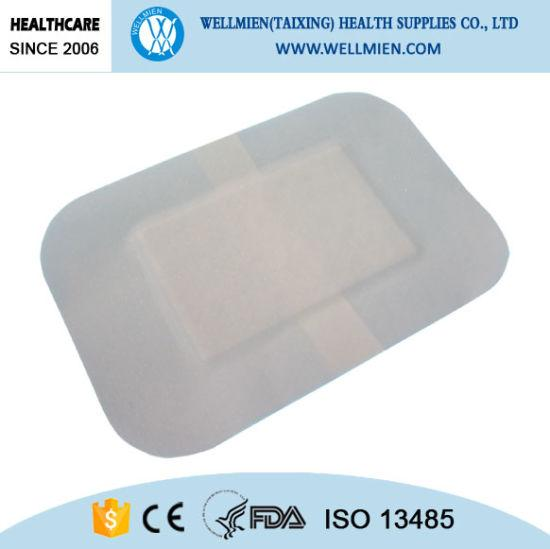bandage: (42, 92, 508, 455)
